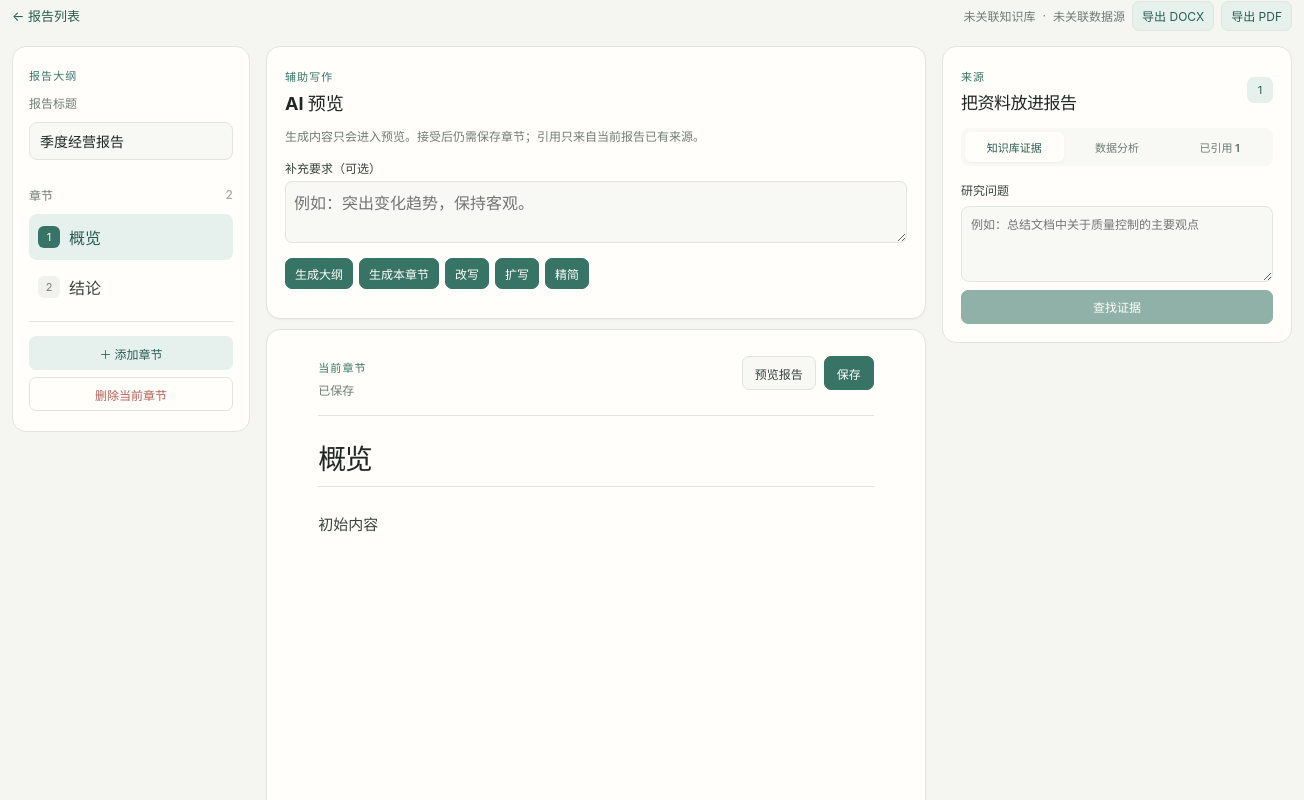
Test: ReportWorkspaceView › does not download an export that completes after switching reports
Click the button with class "report-workspace-page__export" showing "导出 DOCX" at {"x": 1173, "y": 16}, box left=1132, top=0, right=1214, bottom=30
(page scrolled)
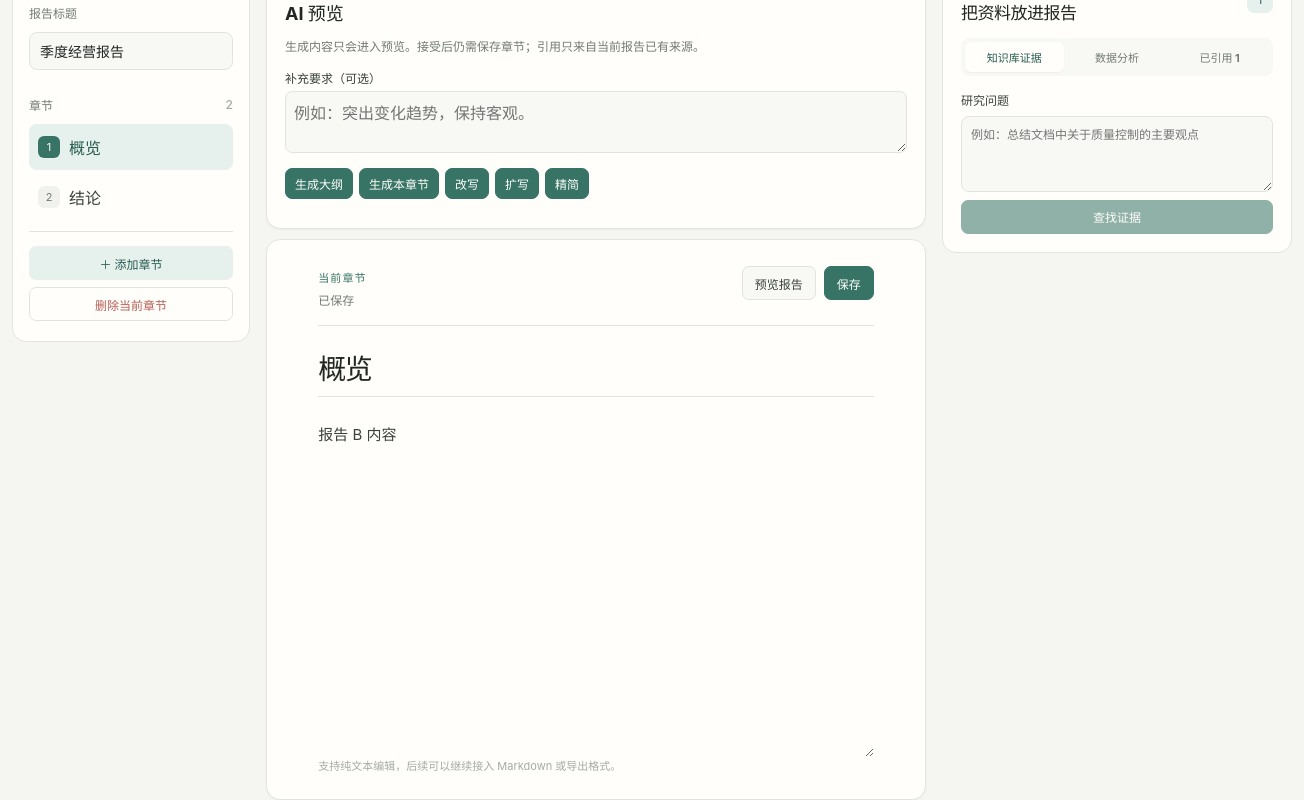
Check: the text box with class "report-editor__textarea" holds "报告 B 内容", box left=318, top=397, right=874, bottom=757
